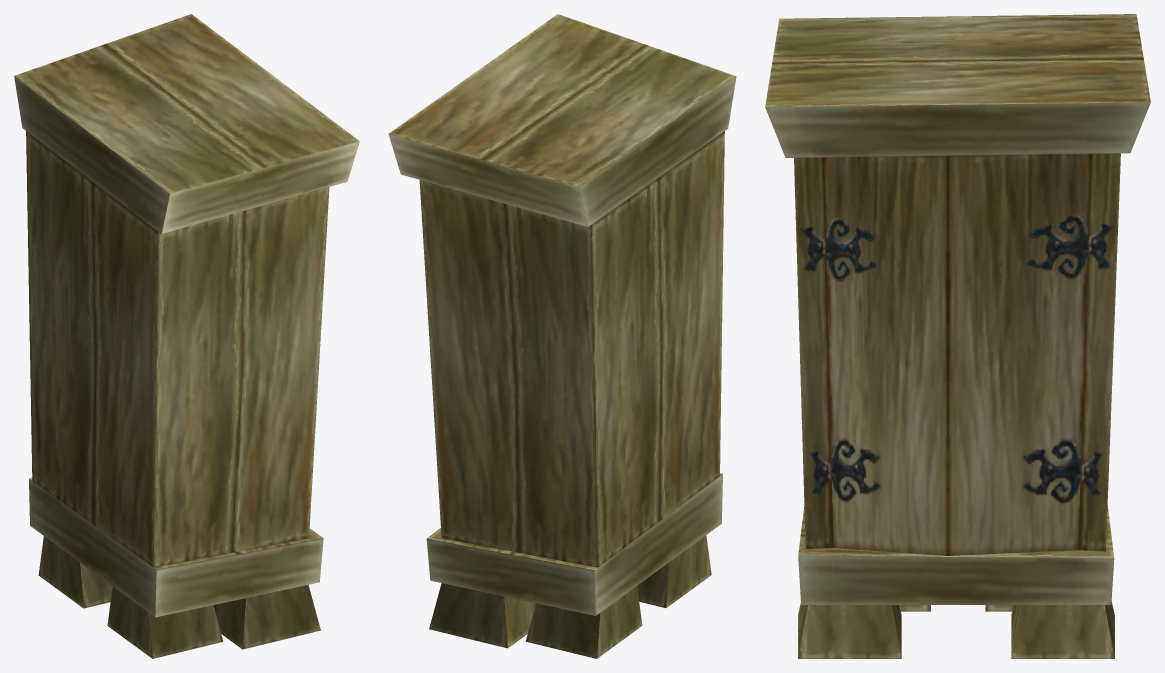
Rendered from duskwoodwardrobe01.obj.
3 renders of one model, left to right at view 1: azimuth 30°, elevation 25°; view 2: azimuth 150°, elevation 25°; view 3: azimuth 270°, elevation 25°, orthographic. The views are drawn at different scales.
Visible parts, largest first — view 1: duskwoodwardrobe010; view 2: duskwoodwardrobe010; view 3: duskwoodwardrobe010.
Part boxes in pixels (left/top/right/bottom): duskwoodwardrobe010: left=14, top=14, right=359, bottom=658; duskwoodwardrobe010: left=388, top=14, right=736, bottom=658; duskwoodwardrobe010: left=765, top=14, right=1150, bottom=658.
Bounding box in the file's own units: 1.32 × 3.42 × 2.1.
Materials: 1 (1 with a texture image).
